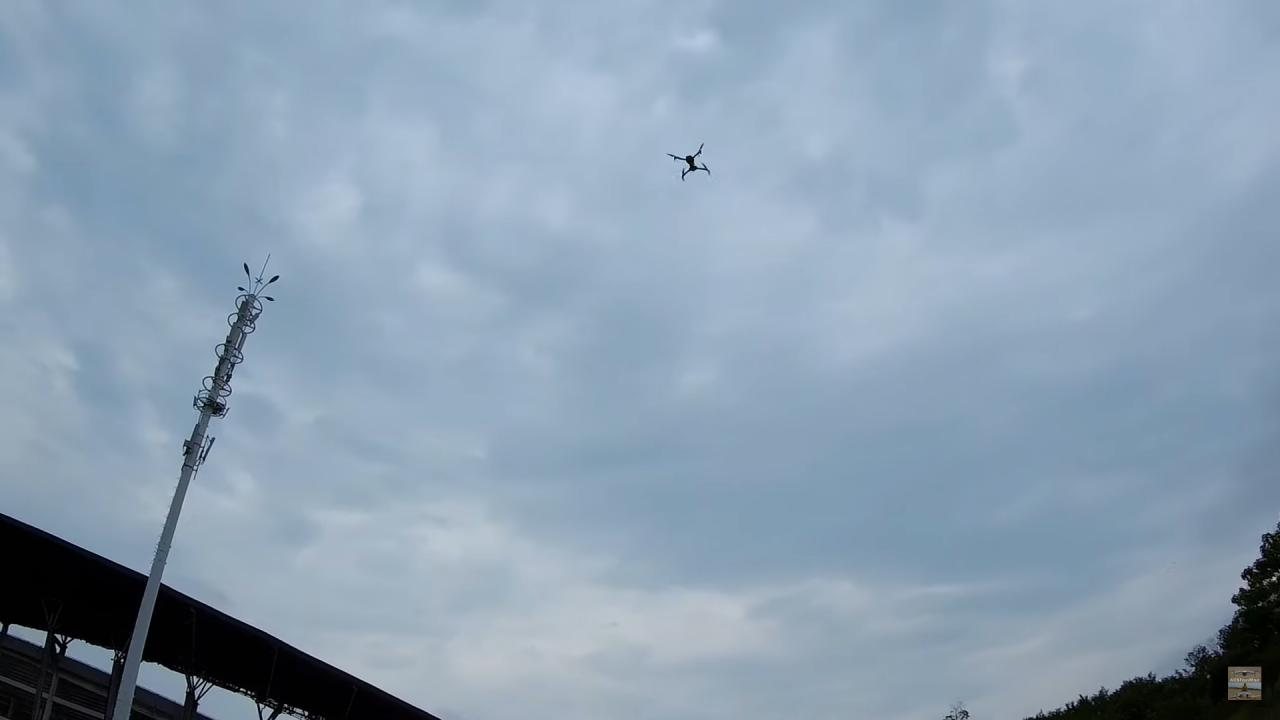Drone: (658, 135, 722, 192)
